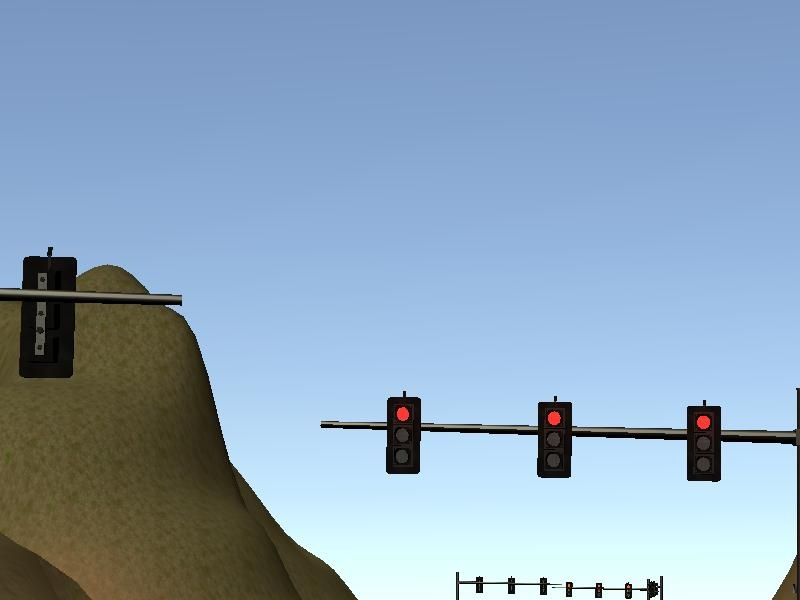red: (536, 403, 573, 477), (686, 405, 721, 478), (385, 396, 419, 471)
